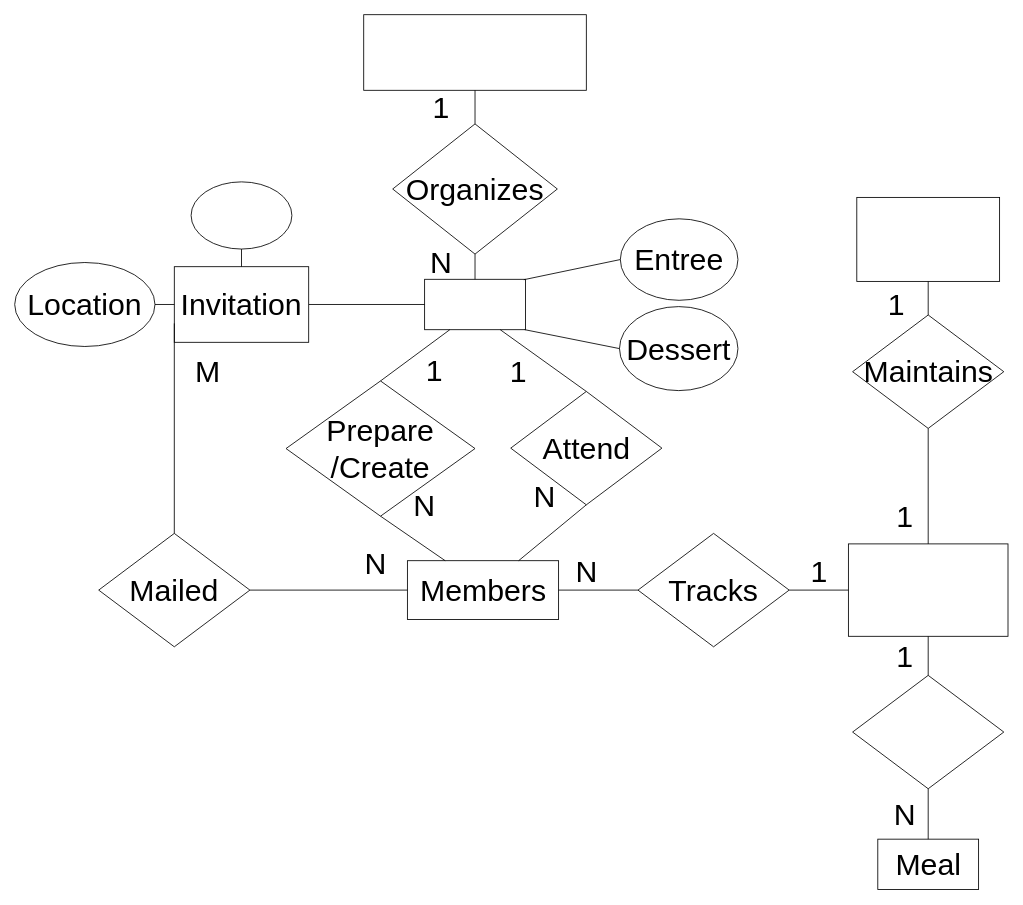
This 1023x905 diagram has some shape labels left out. Each missing label, with the centre of its shape:
"Club President" belongs at [928,239].
"Cooking club" belongs at [474,52].
"Data base" belongs at [928,589].
"Date" belongs at [241,215].
"Diner" belongs at [474,304].
"Plans" belongs at [928,732].
